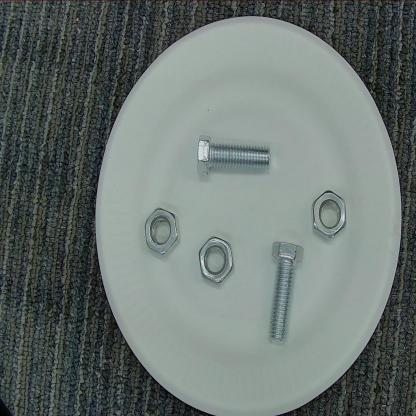FOD: (191, 131, 279, 184), (264, 238, 306, 348), (307, 186, 350, 244), (142, 203, 186, 258), (197, 235, 235, 288)
